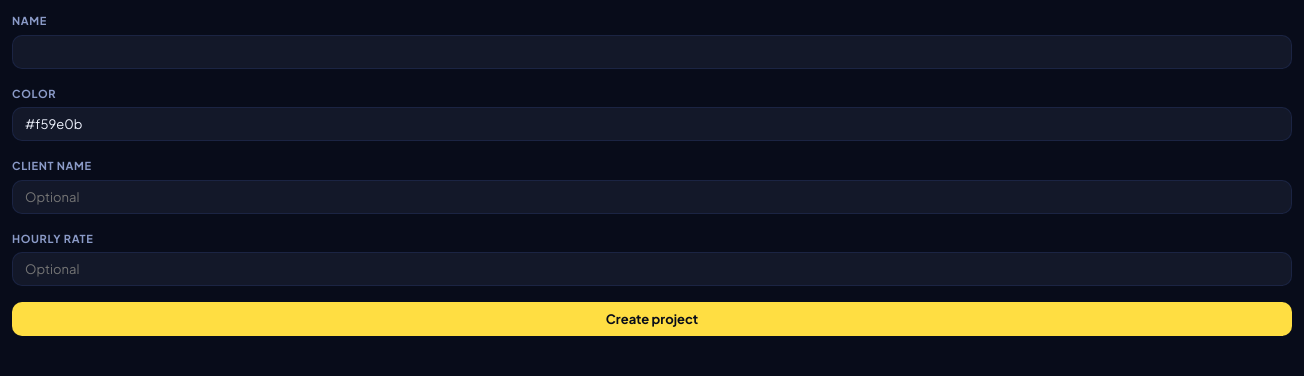
ProjectForm › shows validation error when color is not a valid hex
Type "Test" into the field labelled "Name". click: x=652, y=52
box: [12,35,1292,69]
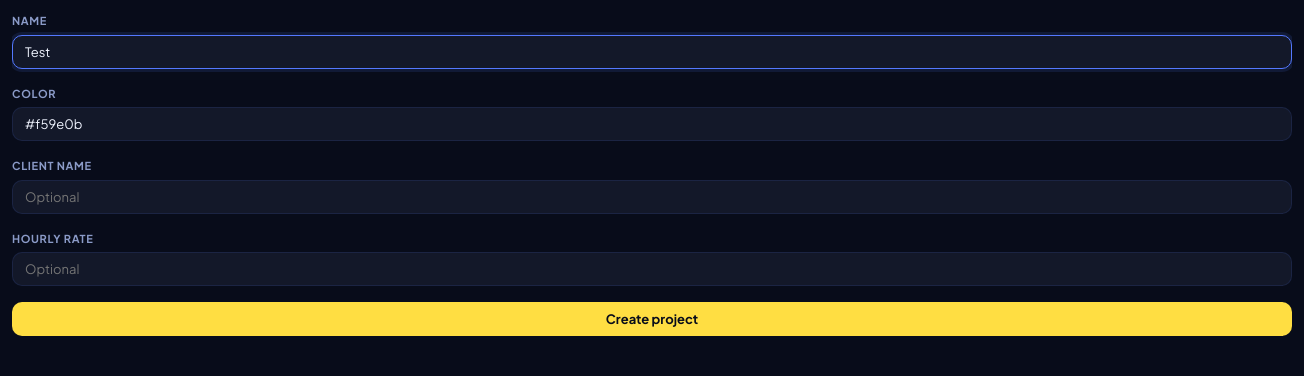
Type "notahex" into the field labelled "Color". click: x=652, y=124
box: [12,107,1292,141]
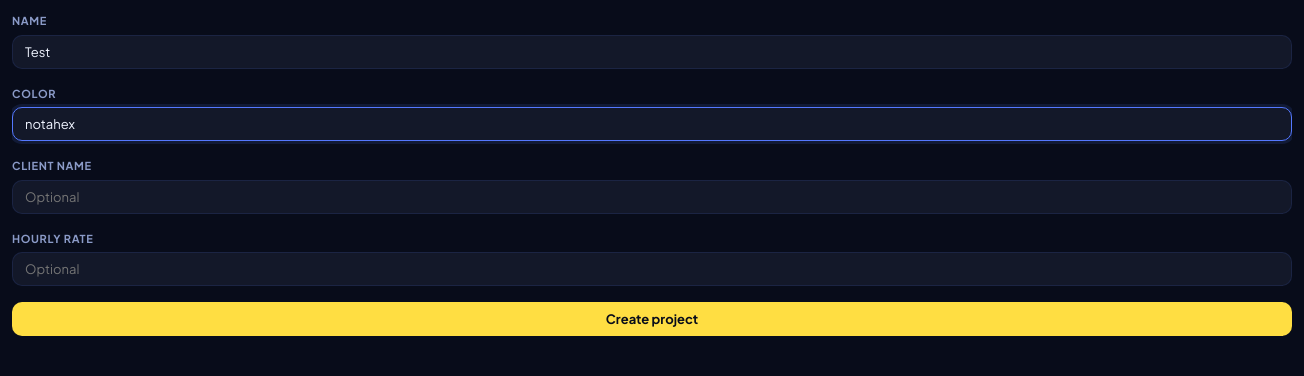
Submit the form
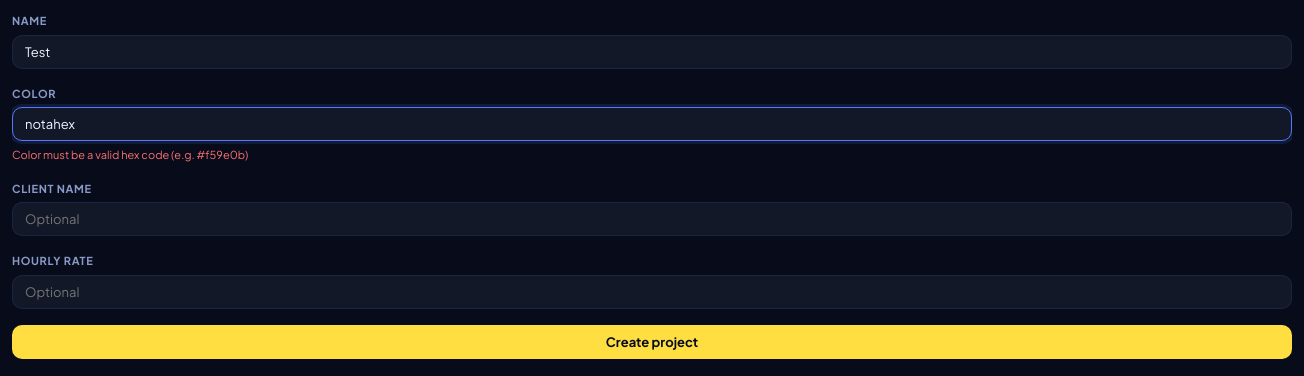
Expected: the text "Color must be a valid hex code (e.g. #f59e0b)" is shown, [12,148,248,161]
